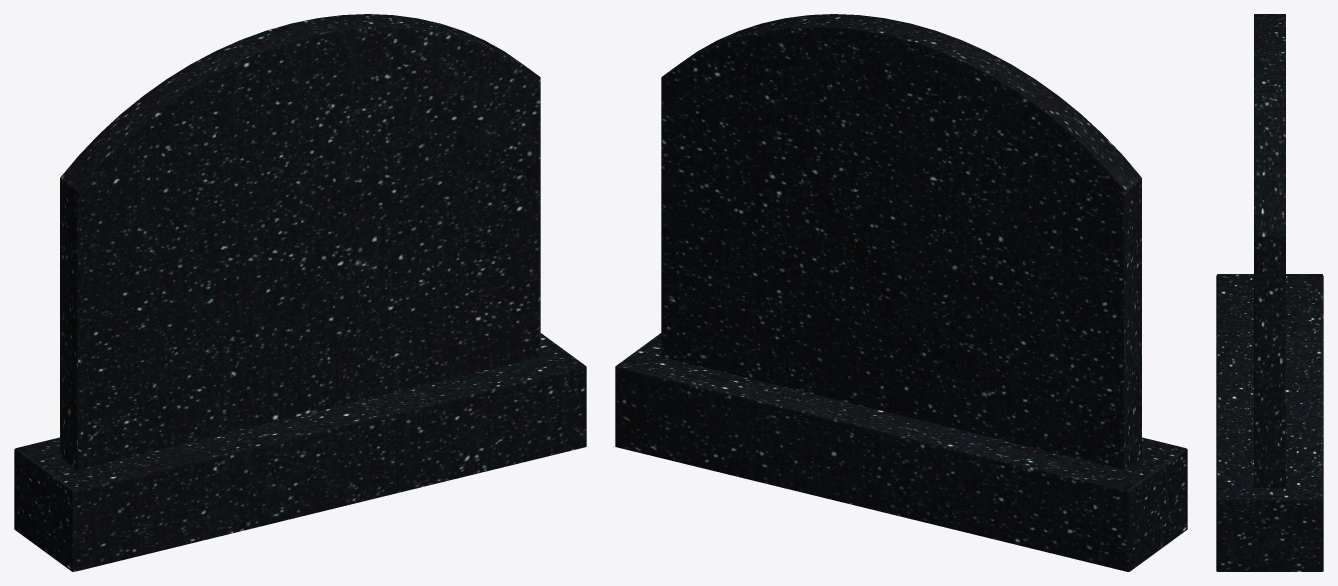
The picture shows the model from 3 angles, left to right: view 1: azimuth 30°, elevation 25°; view 2: azimuth 150°, elevation 25°; view 3: azimuth 270°, elevation 25°; orthographic projection. The views are drawn at different scales.
Visible parts, largest first — view 1: Node, Node_stand; view 2: Node, Node_stand; view 3: Node_stand, Node.
Boxes of the visible parts, box(x1,y1,x2,y2) form: Node: box(60, 14, 540, 469); Node_stand: box(14, 333, 586, 571); Node: box(661, 14, 1141, 469); Node_stand: box(615, 333, 1187, 571); Node_stand: box(1216, 274, 1323, 571); Node: box(1254, 14, 1285, 487).
Size of the model in its own units: 0.9991 by 0.85 by 0.2.
1 material, 1 textured.
